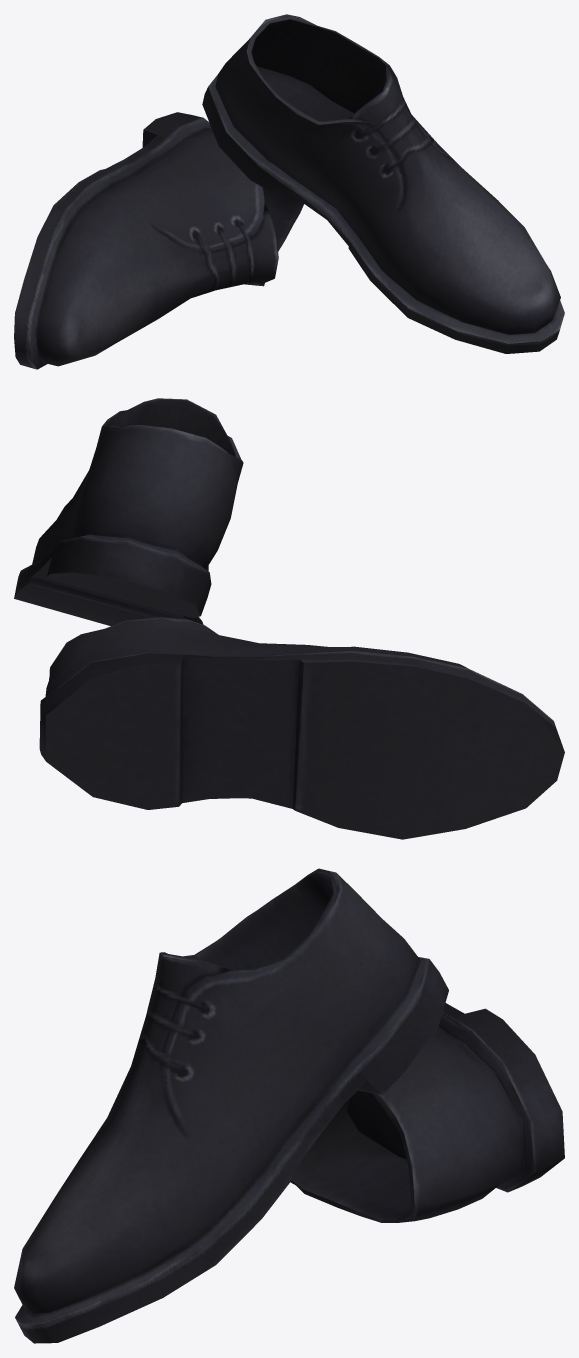
The model's file is ShenFuXiuXiShi_01_pixie_01.FBX.
The picture shows the model from 3 angles, top to bottom: view 1: azimuth 30°, elevation 25°; view 2: azimuth 150°, elevation 25°; view 3: azimuth 270°, elevation 25°; orthographic projection. The views are drawn at different scales.
Visible parts, largest first — view 1: ShenFuXiuXiShi_01_pixie_01; view 2: ShenFuXiuXiShi_01_pixie_01; view 3: ShenFuXiuXiShi_01_pixie_01.
Boxes of the visible parts, x1=… form: ShenFuXiuXiShi_01_pixie_01: x1=14, y1=14, x2=564, y2=369; ShenFuXiuXiShi_01_pixie_01: x1=14, y1=398, x2=564, y2=839; ShenFuXiuXiShi_01_pixie_01: x1=14, y1=868, x2=564, y2=1343.
Size of the model in its own units: 281 by 159 by 215.
